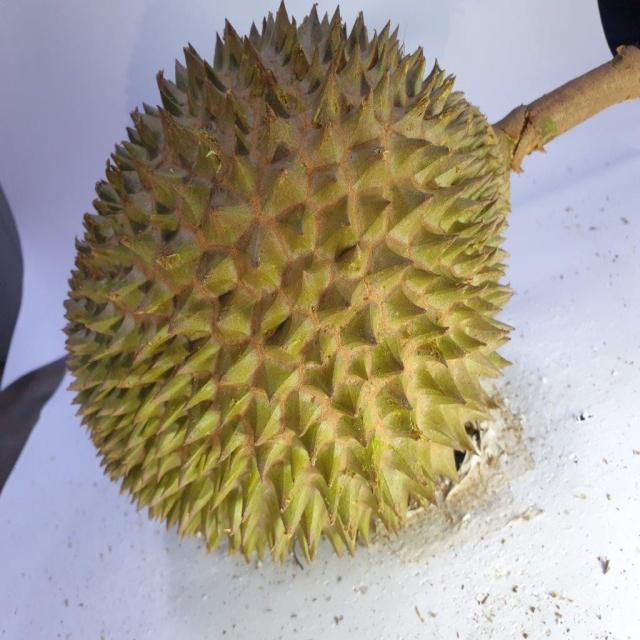mature: (65, 4, 509, 556)
